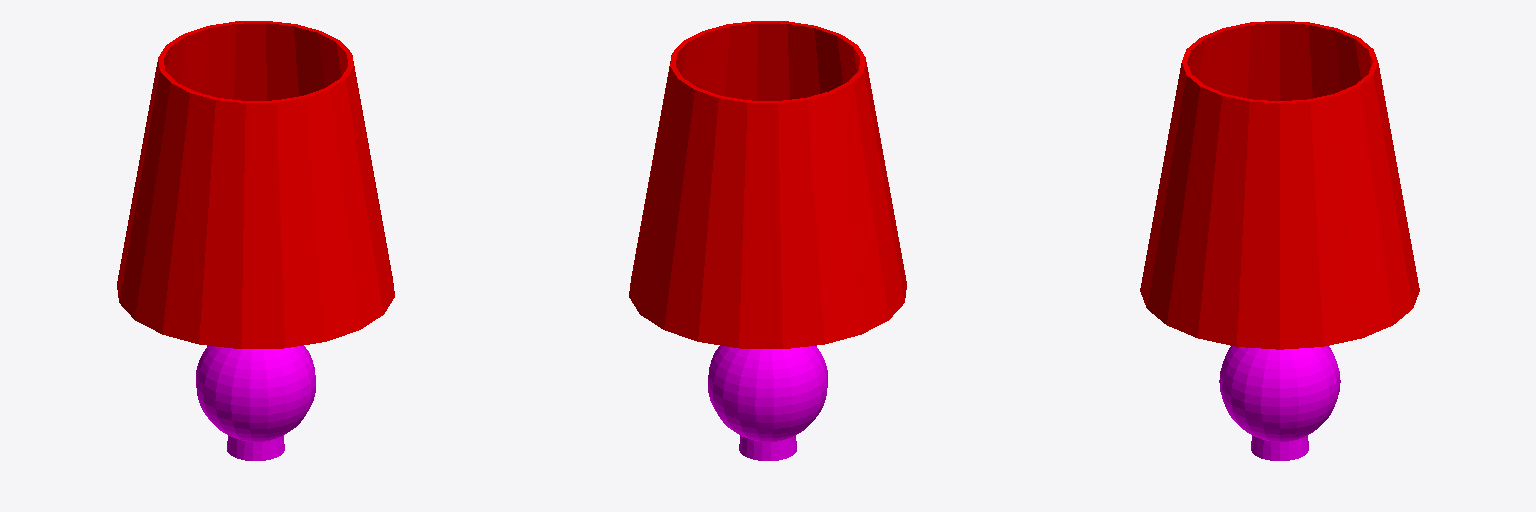
Rendered from UNit_3_Challenge_Lamp.obj.
The picture shows the model from 3 angles: view 1: azimuth 30°, elevation 25°; view 2: azimuth 150°, elevation 25°; view 3: azimuth 270°, elevation 25°; orthographic projection.
Visible parts, largest first — view 1: Lamp1; view 2: Lamp1; view 3: Lamp1.
Part boxes in pixels (x1,y1,x2,y2): Lamp1: (117,21,394,460); Lamp1: (629,21,906,460); Lamp1: (1140,21,1419,460).
Size of the model in its own units: 4.62 by 7.06 by 4.62.